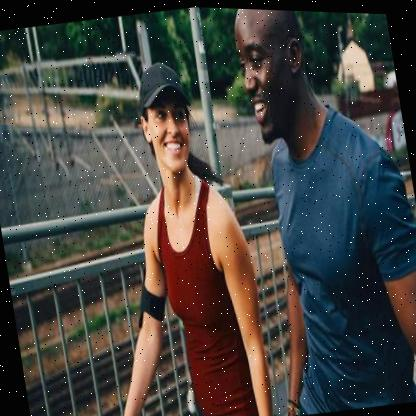person: (55, 45, 278, 416), (218, 8, 416, 416)
